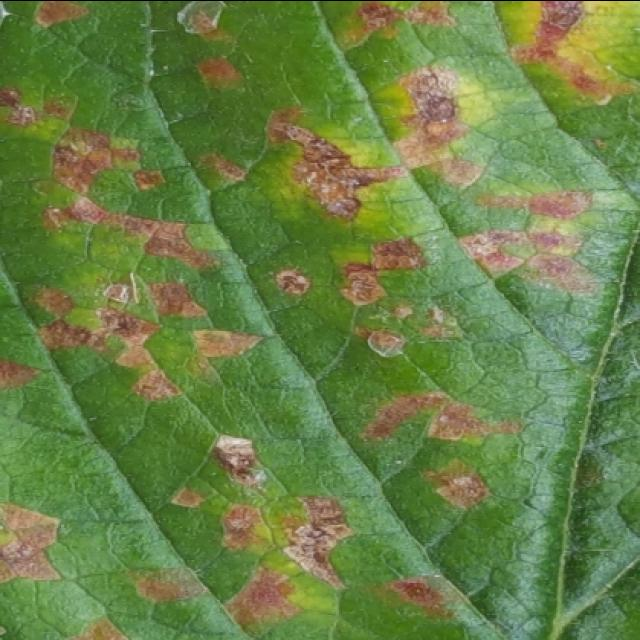Angular Leafspot: (0, 2, 638, 640)
